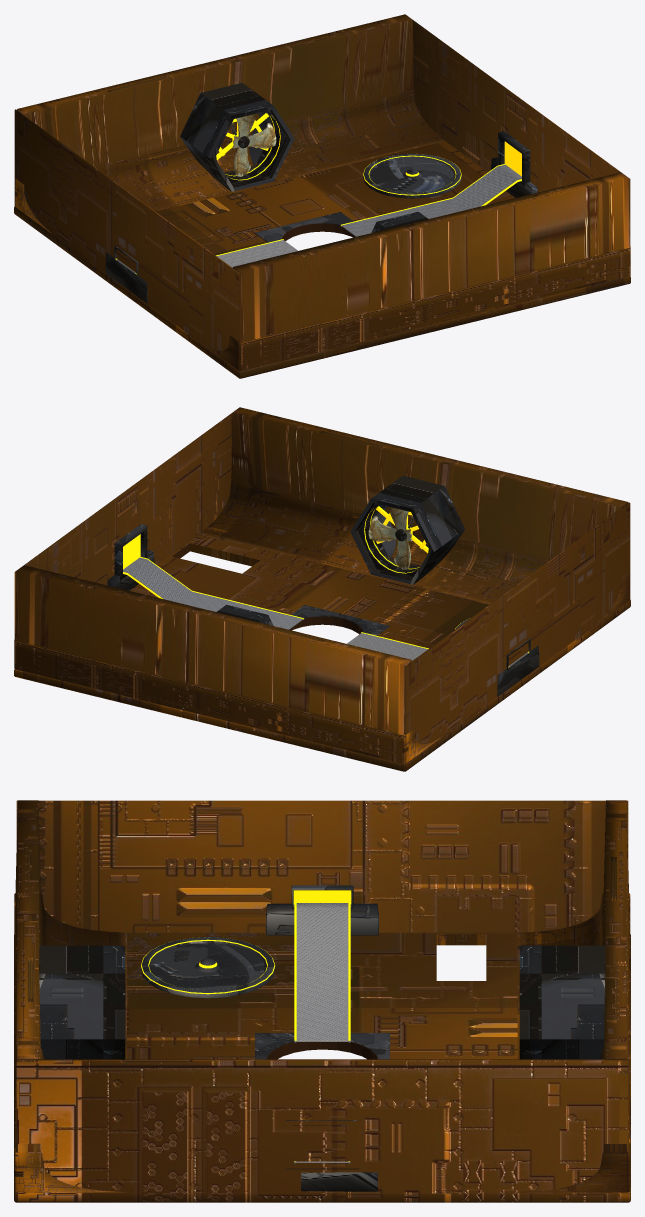
Rendered from floor.01.gltf.
3 views of the same model, one above another, from view 1: azimuth 30°, elevation 25°; view 2: azimuth 150°, elevation 25°; view 3: azimuth 270°, elevation 25° (orthographic). The views are drawn at different scales.
Visible parts, largest first — view 1: Floor 1 Base; view 2: Floor 1 Base; view 3: Floor 1 Base.
Boxes of the visible parts, x1,y1,x2,y2 form: Floor 1 Base: [14, 14, 630, 378]; Floor 1 Base: [14, 407, 630, 771]; Floor 1 Base: [14, 800, 630, 1202].
Size of what is drawn, in the model's own units: 54.99 by 14.1 by 54.75.
Materials: 8 (5 with a texture image).
